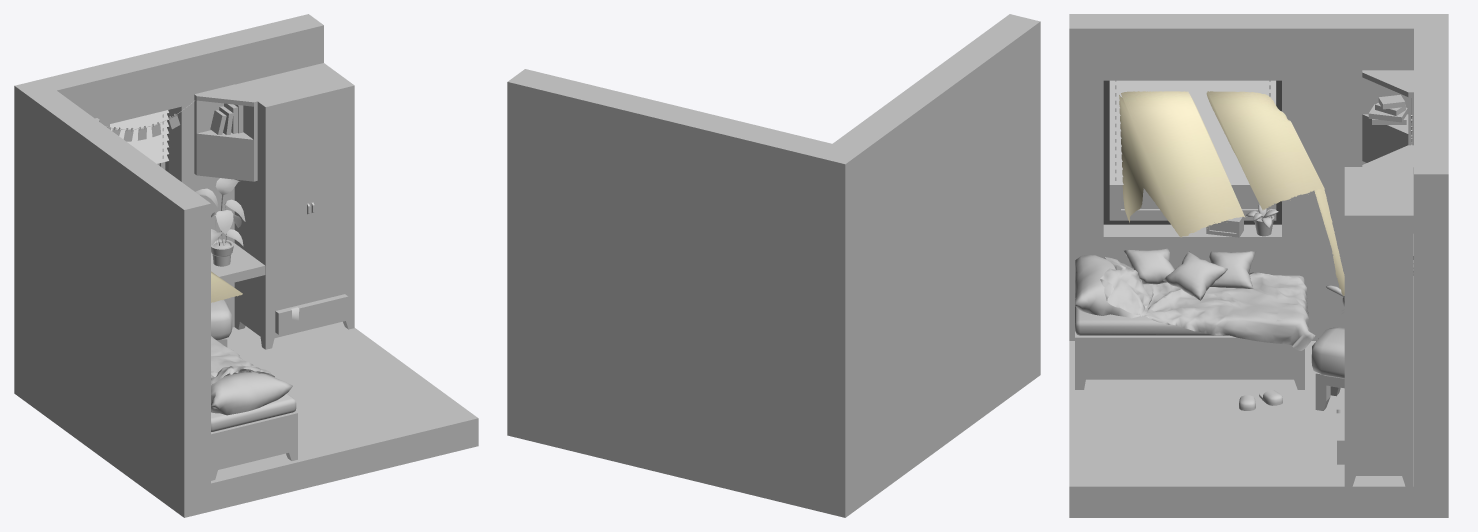
3 renders of one model, left to right at view 1: azimuth 30°, elevation 25°; view 2: azimuth 150°, elevation 25°; view 3: azimuth 270°, elevation 25°, orthographic. The views are drawn at different scales.
Parts seen in each view (by area): view 1: room_lowpoly_room_material_0, wardrobe_lowpoly_equipment_material_0, cupboards_lowpoly_equipment_material_0, bed_lowpoly_equipment_material_0, pillow_big_lowpoly_equipment_material_0, plant_big_lowpoly_equipment_material_0, shutter_lowpoly_equipment_material_0, mattress_lowpoly_equipment_material_0, blanket_lowpoly_equipment_material_0, desk_lowpoly_equipment_material_0, book_lowpoly_equipment_material_0, pouf_seat_lowpoly_equipment_material_0 (+2 smaller); view 2: room_lowpoly_room_material_0; view 3: room_lowpoly_room_material_0, wardrobe_lowpoly_equipment_material_0, ray_lowpoly_ray_material_0, blanket_lowpoly_equipment_material_0, bed_lowpoly_equipment_material_0, shutter_lowpoly_equipment_material_0, cupboards_lowpoly_equipment_material_0, mattress_lowpoly_equipment_material_0, pillow_big_lowpoly_equipment_material_0, pillow_02_lowpoly_equipment_material_0, pouf_seat_lowpoly_equipment_material_0, pillow_03_lowpoly_equipment_material_0 (+7 smaller).
Part boxes in pixels (bbox=[...]): room_lowpoly_room_material_0: bbox=[14, 14, 478, 517]; wardrobe_lowpoly_equipment_material_0: bbox=[234, 63, 354, 349]; cupboards_lowpoly_equipment_material_0: bbox=[95, 84, 257, 181]; bed_lowpoly_equipment_material_0: bbox=[211, 411, 297, 480]; pillow_big_lowpoly_equipment_material_0: bbox=[211, 372, 292, 415]; plant_big_lowpoly_equipment_material_0: bbox=[195, 178, 245, 266]; shutter_lowpoly_equipment_material_0: bbox=[110, 110, 168, 163]; mattress_lowpoly_equipment_material_0: bbox=[211, 384, 296, 431]; blanket_lowpoly_equipment_material_0: bbox=[211, 336, 274, 384]; desk_lowpoly_equipment_material_0: bbox=[211, 243, 265, 283]; book_lowpoly_equipment_material_0: bbox=[210, 103, 243, 134]; pouf_seat_lowpoly_equipment_material_0: bbox=[211, 300, 232, 340]; room_lowpoly_room_material_0: bbox=[507, 14, 1040, 517]; room_lowpoly_room_material_0: bbox=[1069, 14, 1448, 517]; wardrobe_lowpoly_equipment_material_0: bbox=[1337, 167, 1413, 486]; ray_lowpoly_ray_material_0: bbox=[1119, 91, 1344, 295]; blanket_lowpoly_equipment_material_0: bbox=[1100, 257, 1315, 350]; bed_lowpoly_equipment_material_0: bbox=[1075, 331, 1304, 389]; shutter_lowpoly_equipment_material_0: bbox=[1109, 80, 1275, 184]; cupboards_lowpoly_equipment_material_0: bbox=[1362, 70, 1413, 255]; mattress_lowpoly_equipment_material_0: bbox=[1075, 275, 1304, 335]; pillow_big_lowpoly_equipment_material_0: bbox=[1075, 255, 1139, 318]; pillow_02_lowpoly_equipment_material_0: bbox=[1163, 251, 1227, 300]; pouf_seat_lowpoly_equipment_material_0: bbox=[1311, 327, 1344, 378]; pillow_03_lowpoly_equipment_material_0: bbox=[1209, 251, 1255, 288].
Bounding box in the file's own units: 6600 × 6600 × 6863.
